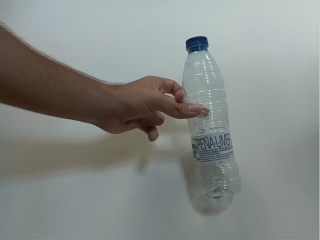botella plastico: (180, 34, 246, 202)
